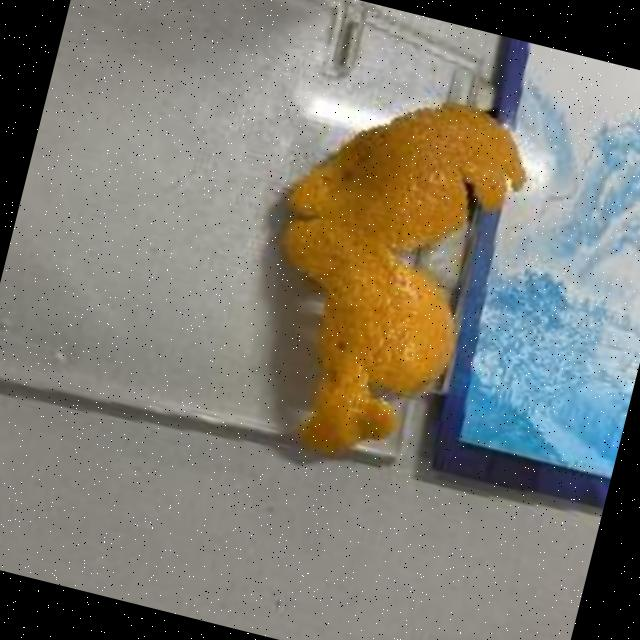orange-peel: (224, 62, 542, 487)
